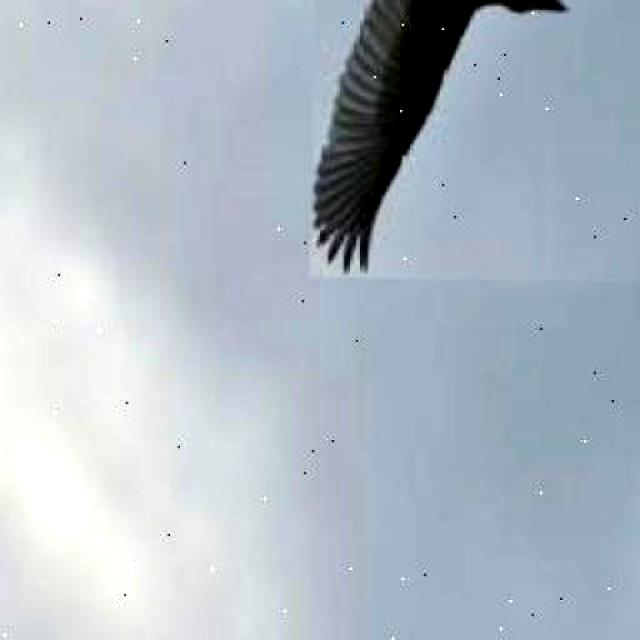airplane: (309, 0, 640, 281)
